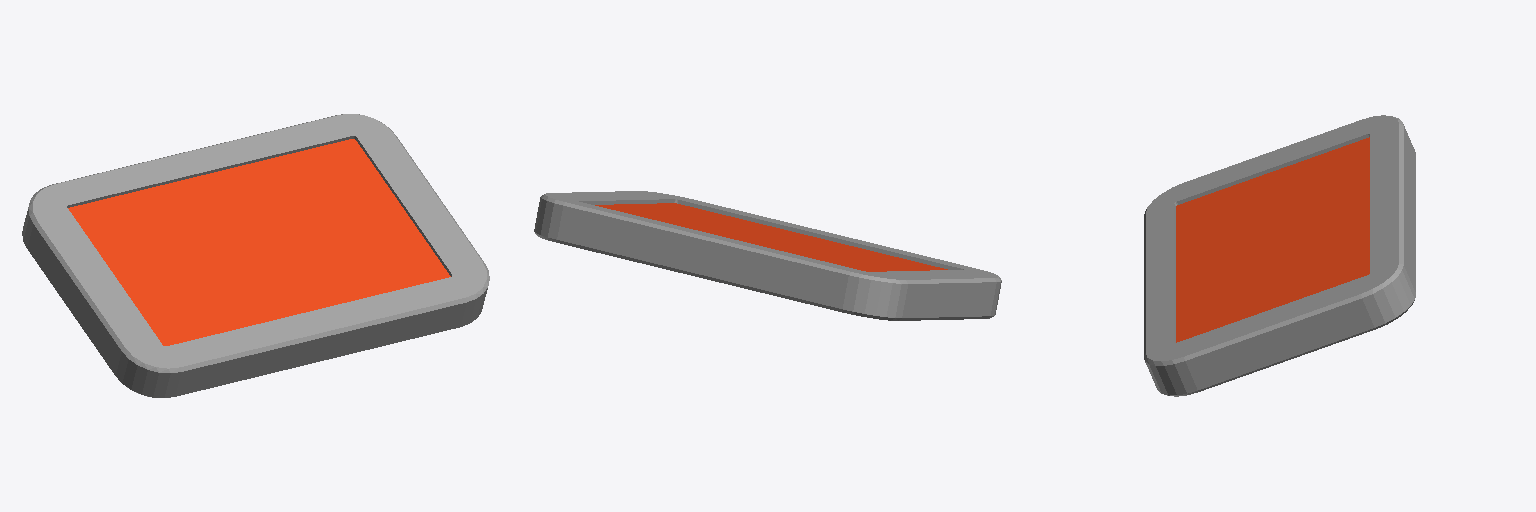
Rendered from Display_optimized.obj.
The picture shows the model from 3 angles: view 1: azimuth 30°, elevation 25°; view 2: azimuth 150°, elevation 25°; view 3: azimuth 270°, elevation 25°; orthographic projection.
Visible parts, largest first — view 1: Body22; view 2: Body22; view 3: Body22.
Part boxes in pixels (bbox=[...]): Body22: bbox=[22, 114, 489, 397]; Body22: bbox=[534, 191, 1001, 320]; Body22: bbox=[1144, 115, 1415, 396].
Bounding box in the file's own units: 207 × 68.28 × 135.